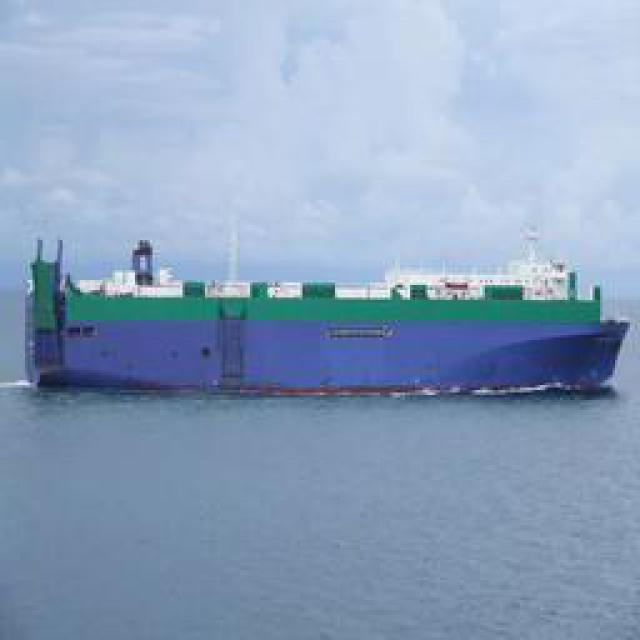Ship: (20, 220, 628, 403)
